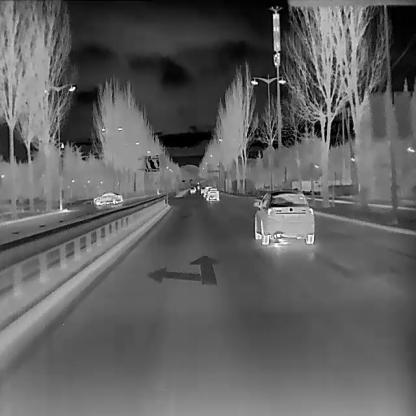car: (253, 188, 314, 245), (91, 189, 122, 205), (204, 185, 219, 201), (202, 185, 211, 198), (200, 185, 204, 194), (190, 185, 195, 192), (197, 184, 200, 189), (196, 180, 199, 183)
